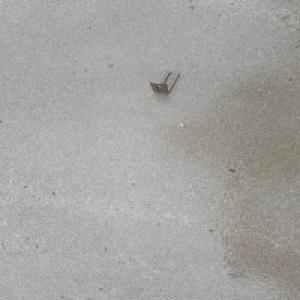MetalPart: (148, 69, 181, 93)
